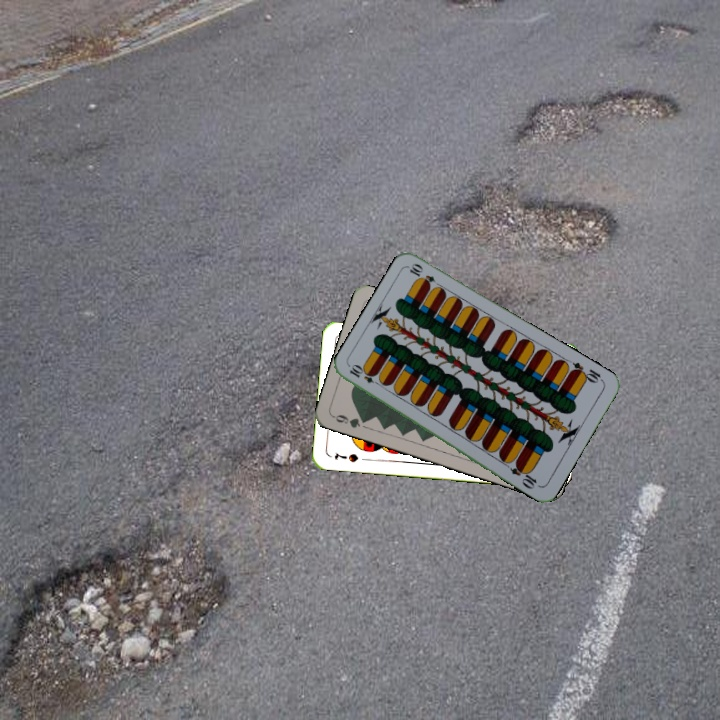E10: (566, 358, 606, 386), (345, 362, 384, 389)
G9: (329, 410, 370, 431)
S7: (331, 448, 361, 464)
